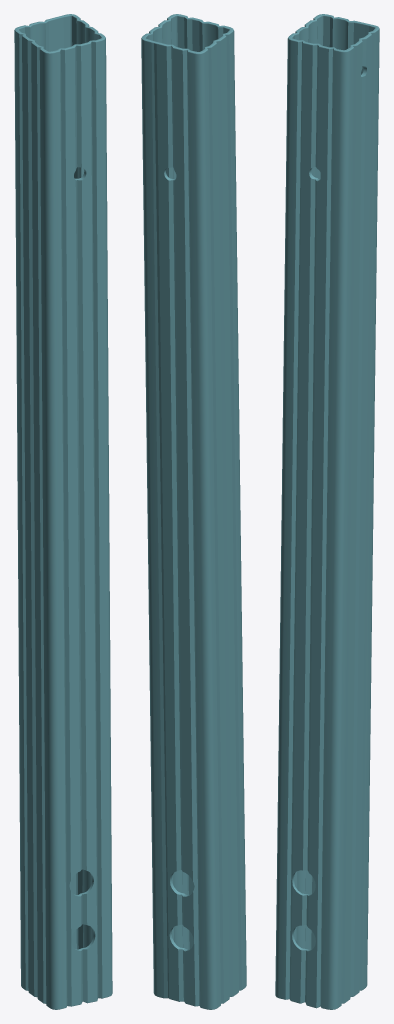
The model's file is table parts_18.fbx.
The picture shows the model from 3 angles, left to right: view 1: azimuth 30°, elevation 25°; view 2: azimuth 150°, elevation 25°; view 3: azimuth 330°, elevation 25°; orthographic projection.
Visible parts, largest first — view 1: RDG; view 2: RDG; view 3: RDG.
Part boxes in pixels (bbox=[...]): RDG: bbox=[14, 14, 112, 1009]; RDG: bbox=[141, 14, 246, 1009]; RDG: bbox=[275, 14, 379, 1009].
Size of the model in its own units: 0.7981 by 11.25 by 0.9648.
